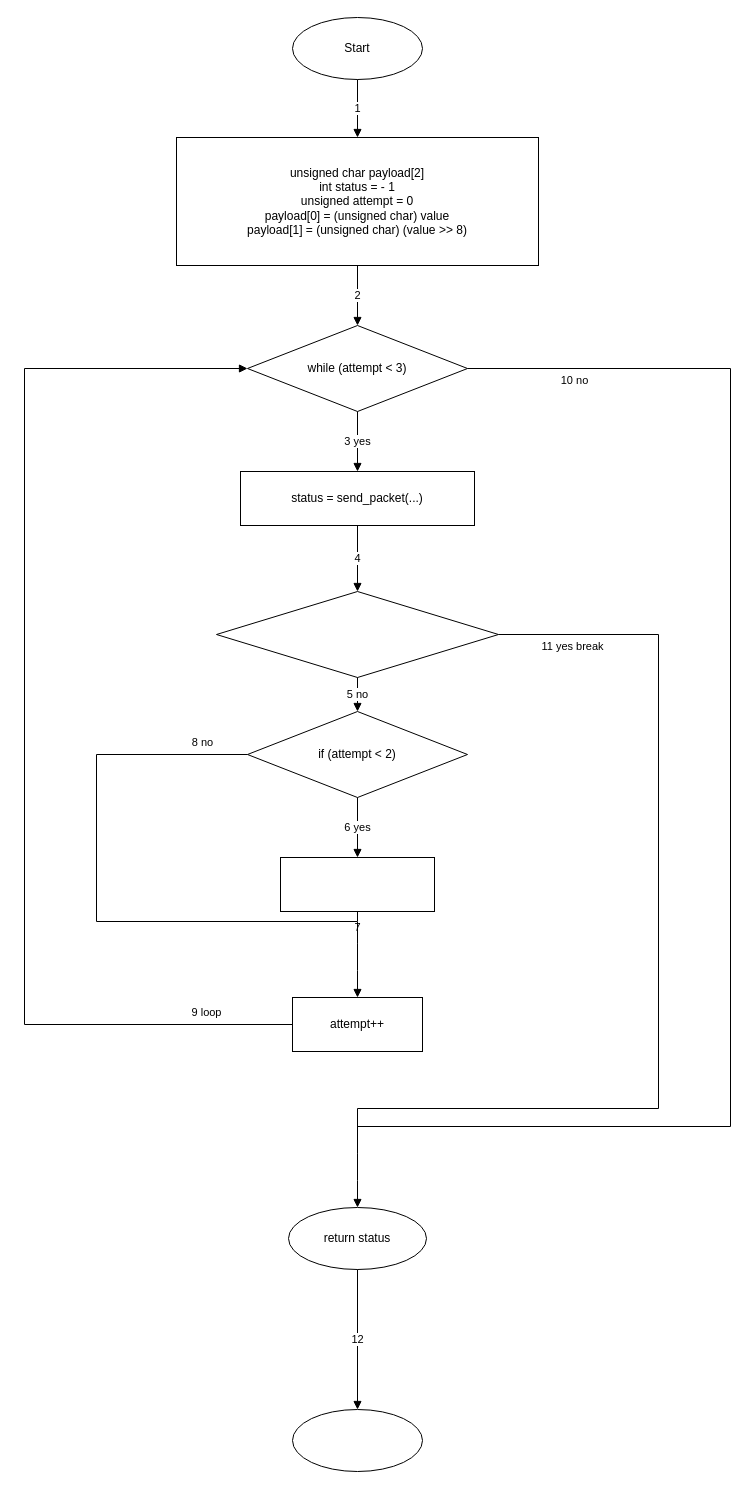
This 749x1489 diagram has some shape labels left out. Each missing label, with the centre of its shape:
End: (x=357, y=1440)
if (status == 0 || status == 2): (x=357, y=634)
wait_ticks(...): (x=357, y=884)
